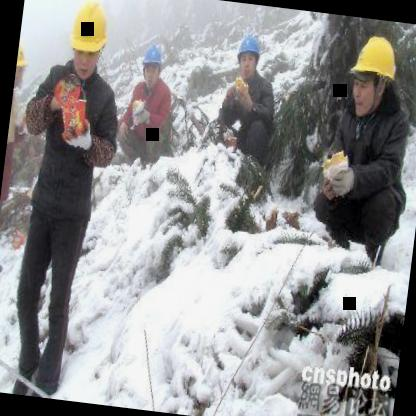helmet: (341, 25, 404, 123), (60, 0, 116, 84), (229, 27, 266, 82), (137, 34, 170, 90), (12, 30, 32, 98)
